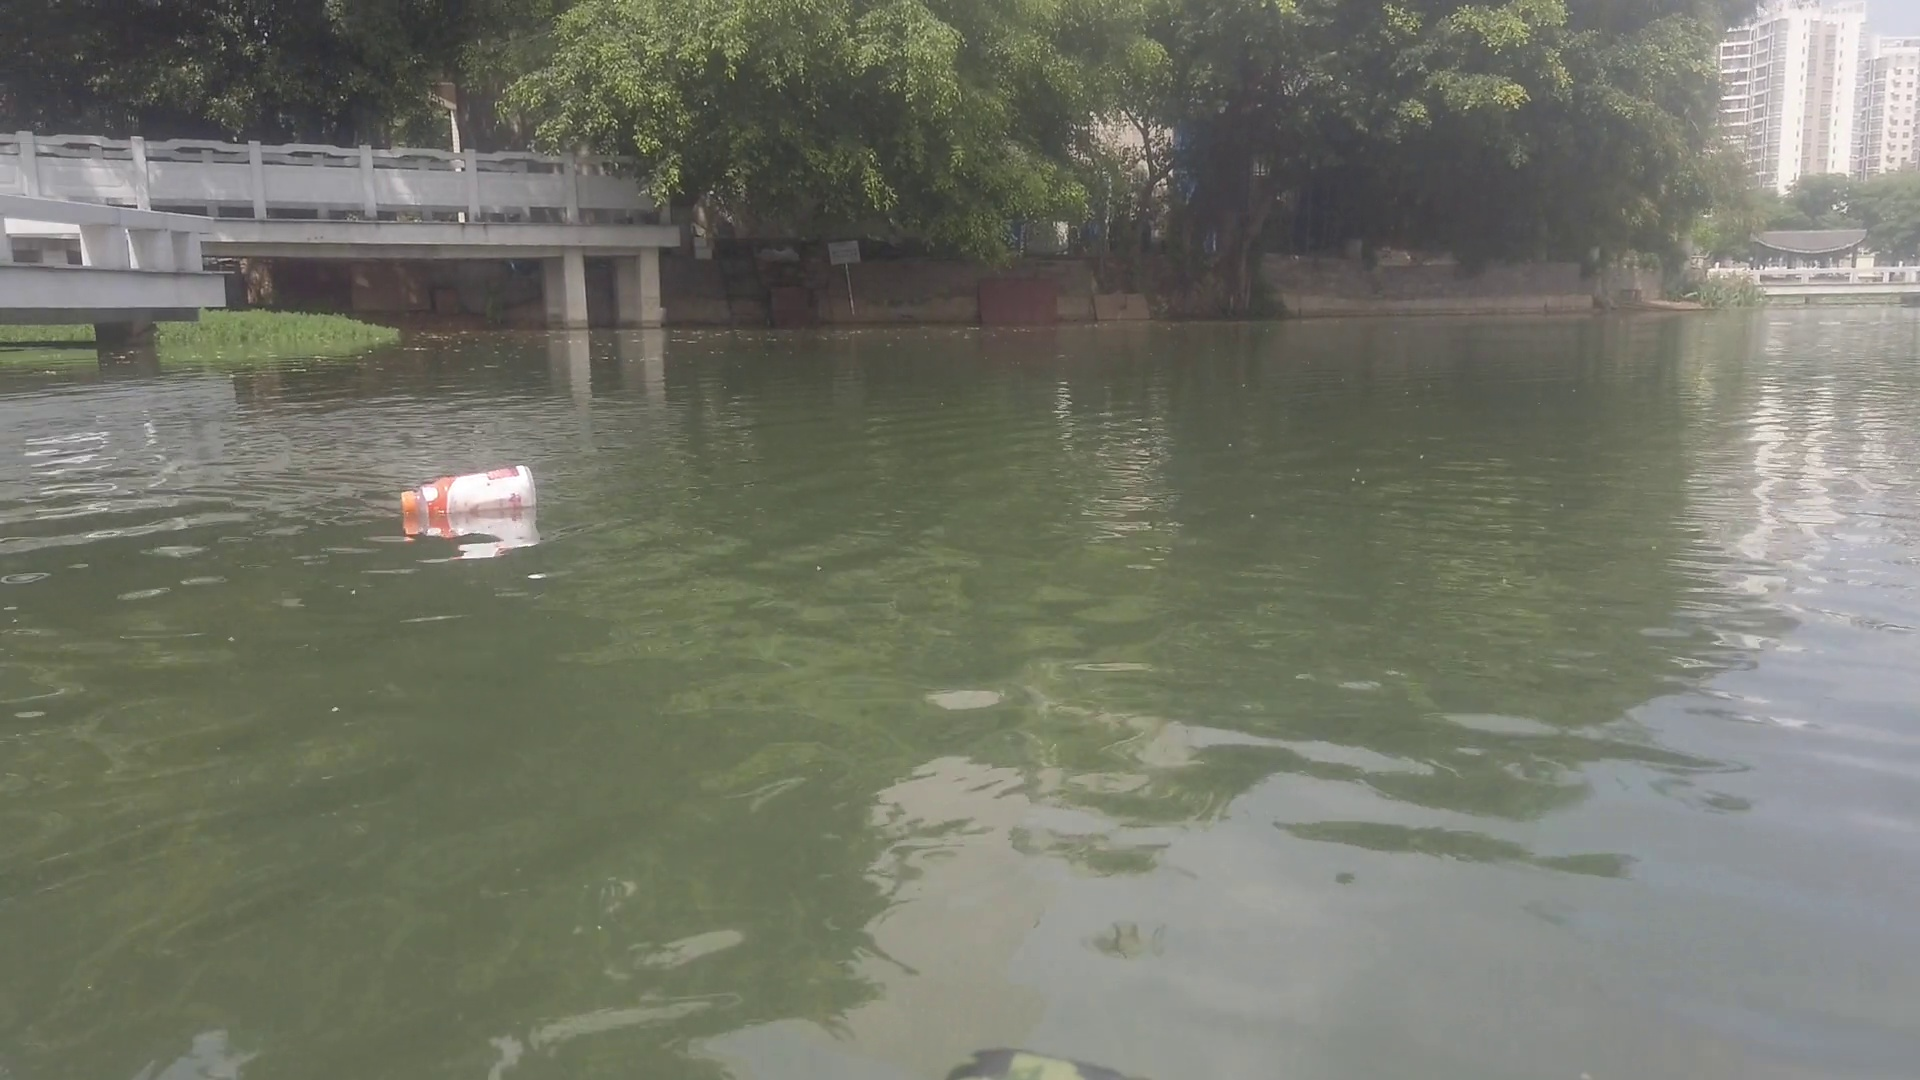bottle: (394, 467, 545, 516)
